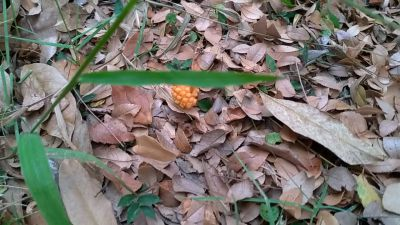eggs: (167, 67, 200, 111)
